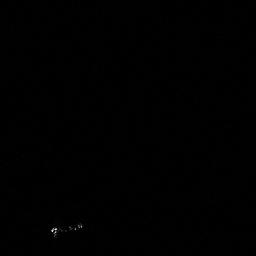ship: (49, 223, 83, 239)
